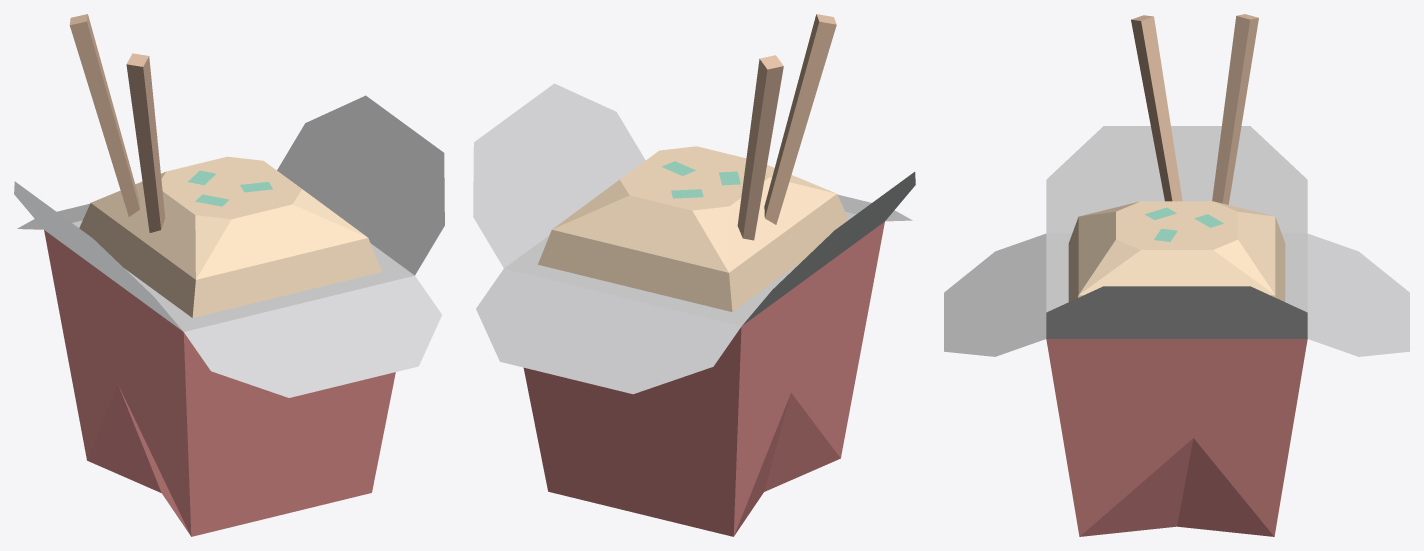
Rendered from asset.glb.
The picture shows the model from 3 angles, left to right: view 1: azimuth 30°, elevation 25°; view 2: azimuth 150°, elevation 25°; view 3: azimuth 270°, elevation 25°; orthographic projection. The views are drawn at different scales.
Visible parts, largest first — view 1: chinese, chopstick (×2); view 2: chinese, chopstick (×2); view 3: chinese, chopstick (×2).
Part boxes in pixels (x1,y1,x2,y2): chinese: (14,95,444,536); chopstick (×2): (69,14,165,232); chinese: (473,83,915,536); chopstick (×2): (737,14,836,240); chinese: (944,126,1409,536); chopstick (×2): (1131,14,1258,204).
Size of the model in its own units: 0.4539 by 0.5671 by 0.5575.
